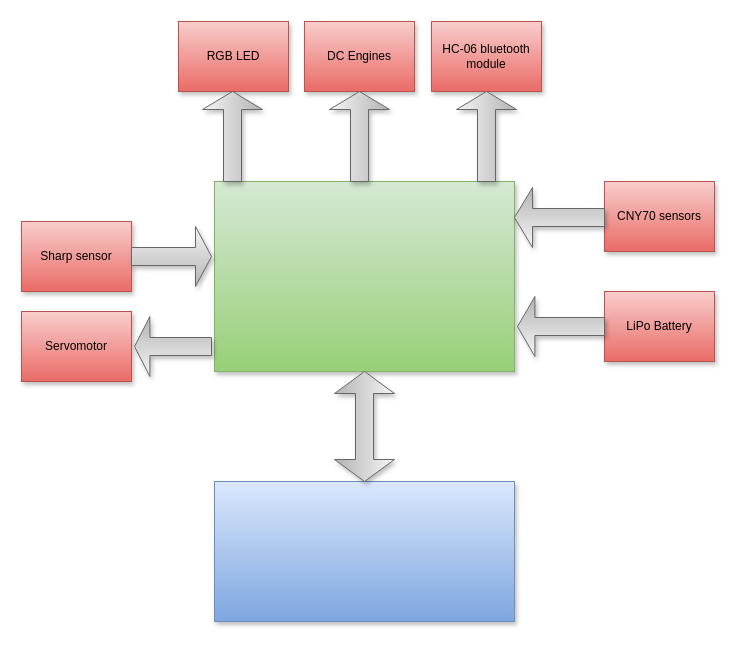
This 738x646 diagram has some shape labels left out. Here are the shapes that lost their labels. From the top down, the centre of each, then its label:
At pixel 365 277: "Shield".
At pixel 365 552: "Arduino Leonardo".
